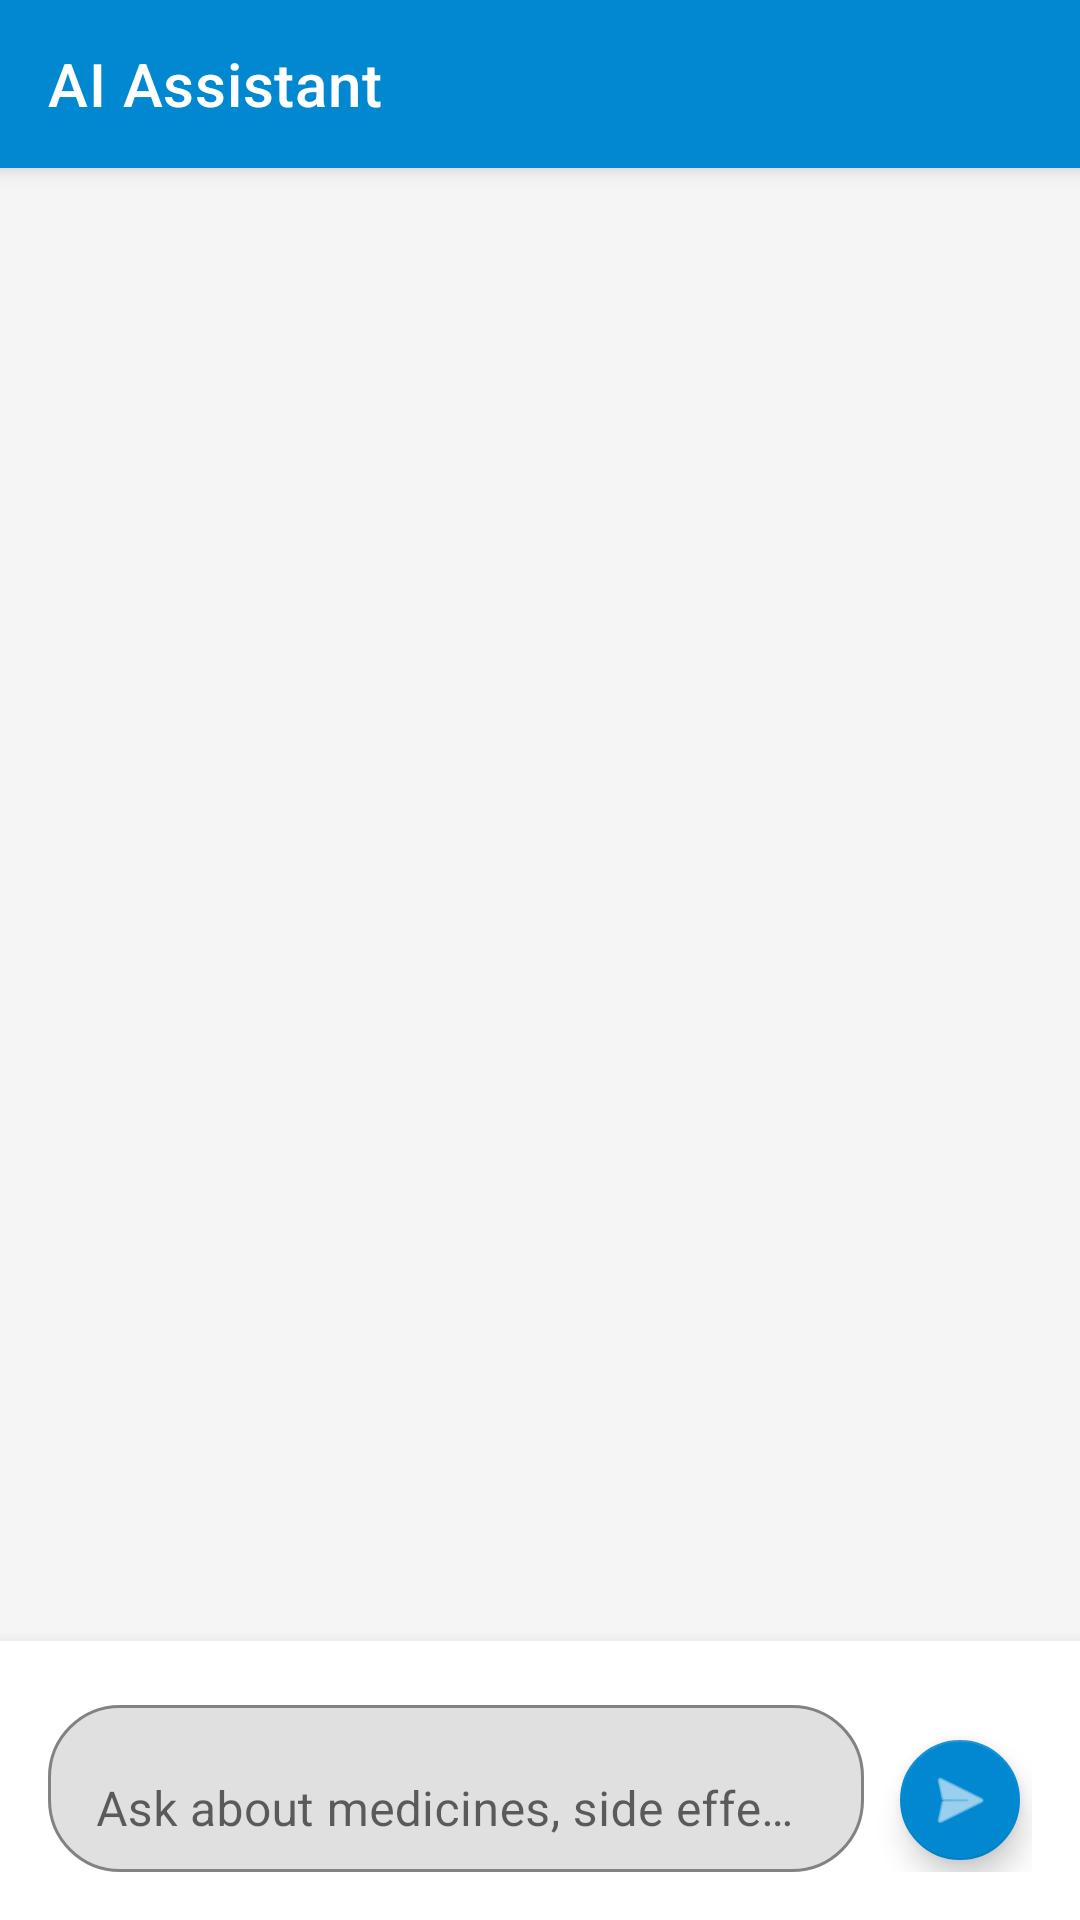

Named icons in this screenshot (1080*1920) and their bounding boxes, BBox(x1, y1, x2, y2):
send: BBox(900, 1740, 1022, 1872)
